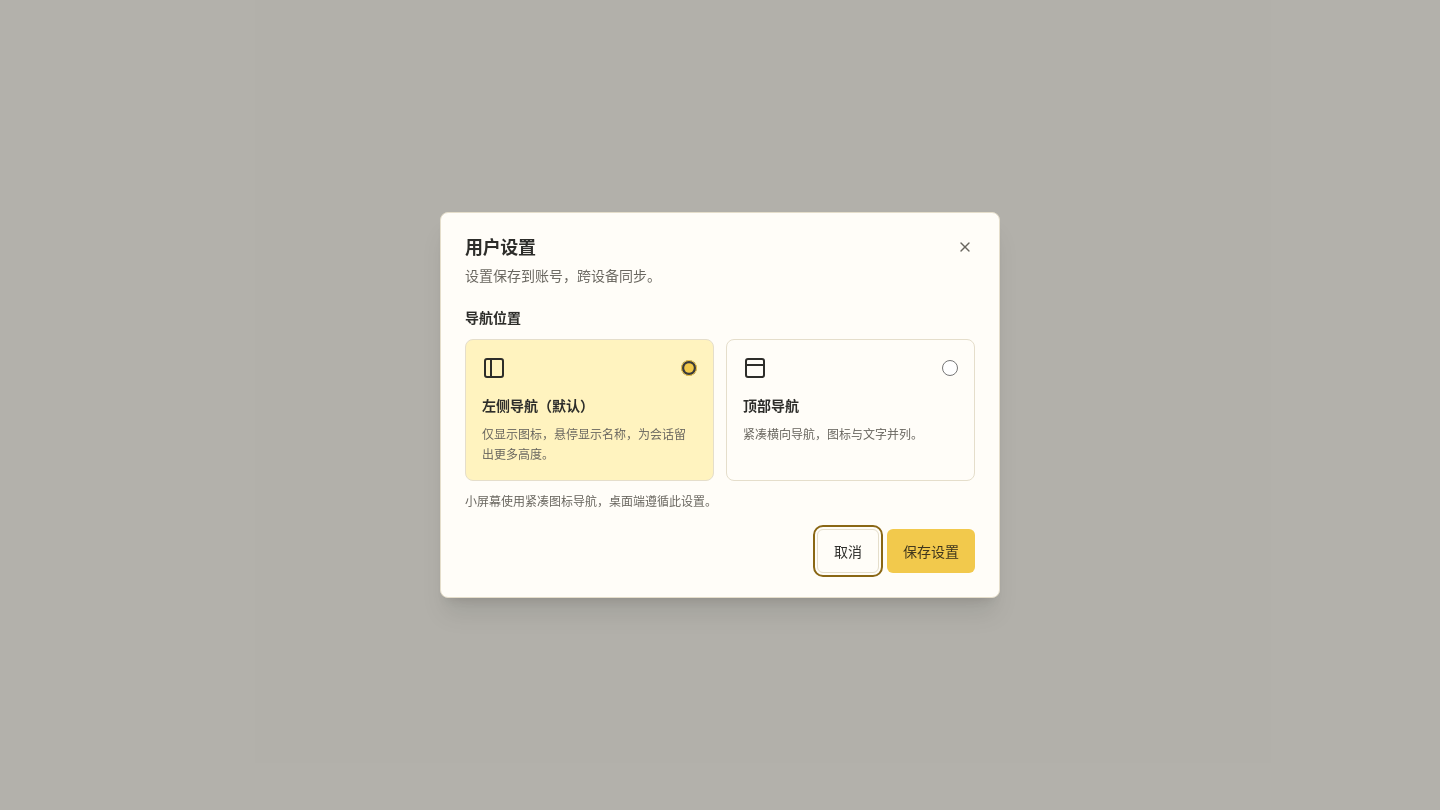
账号导航设置 › 保存失败时保留原缓存并显示错误，设置保持打开
The image size is (1440, 810).
What coordinates should you click on to do the following:
click the radio button labelled "顶部导航 紧凑横向导航，图标与文字并列。"
I would click on:
 (950, 368)
Its box is [942,360,958,376].
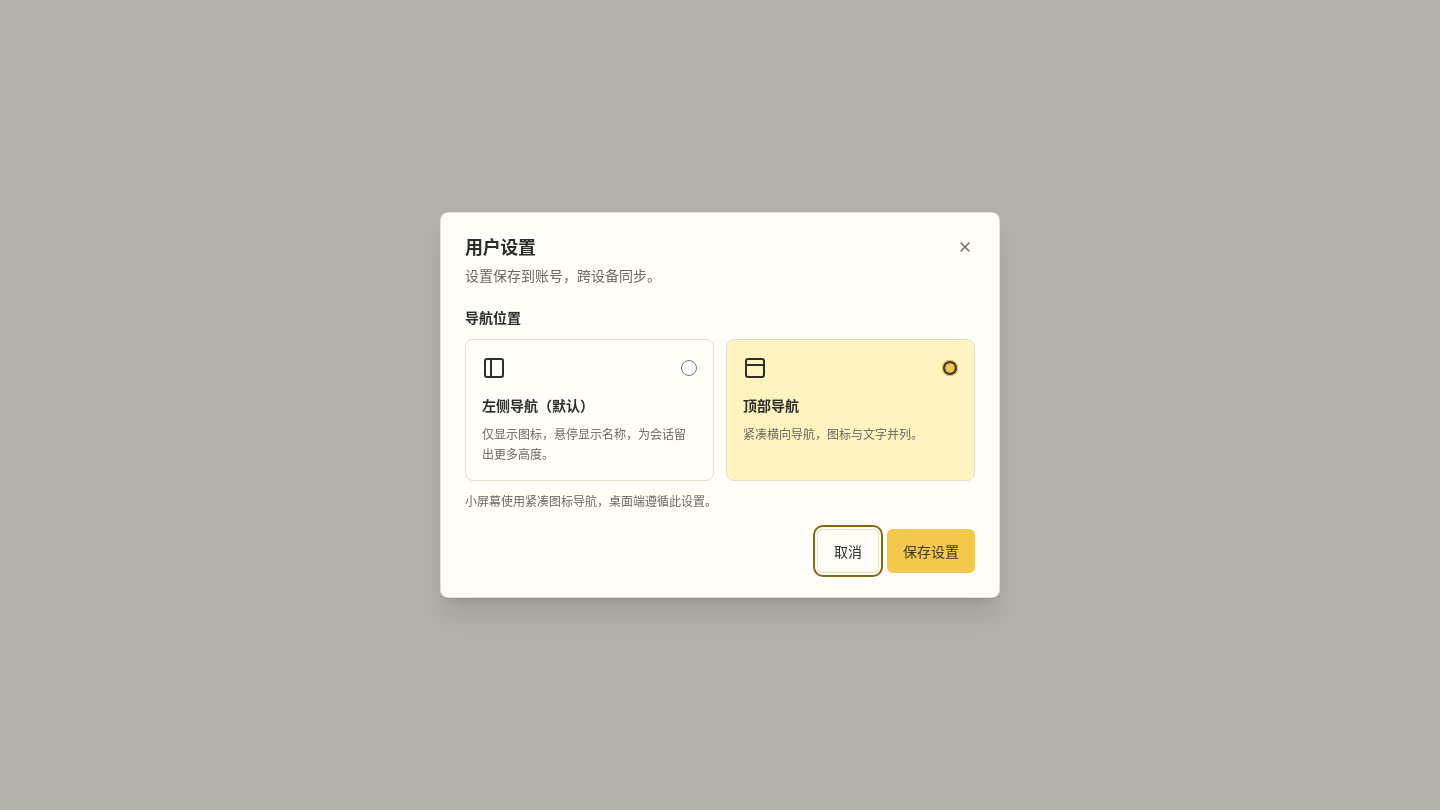
What coordinates should you click on to do the following:
click the button "保存设置"
I would click on:
 (931, 551)
Its box is [887,529,975,573].
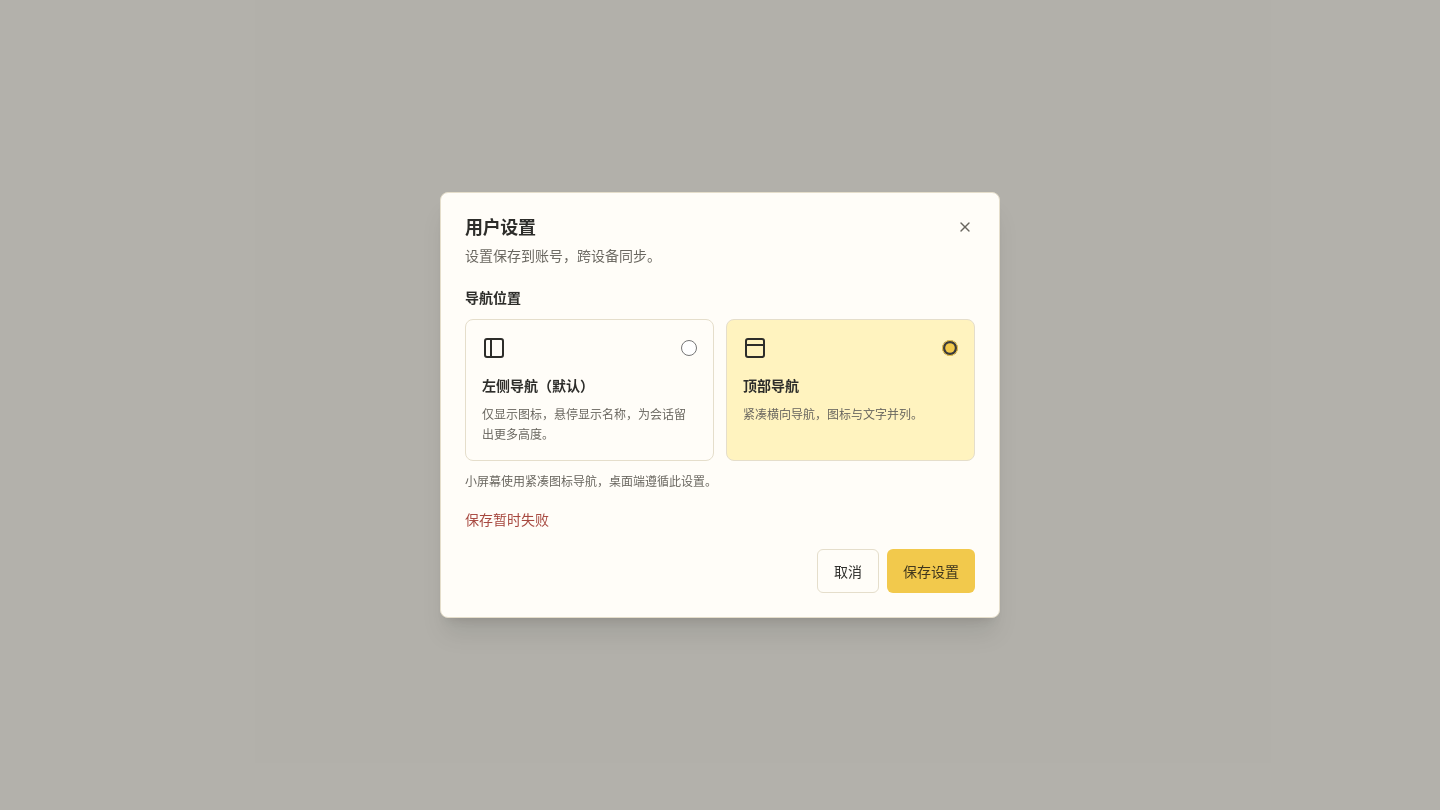
Expected: the button "保存设置" is enabled, [887,549,975,593]
Now the message reads "保存暂时失败", box [465,509,549,529]
